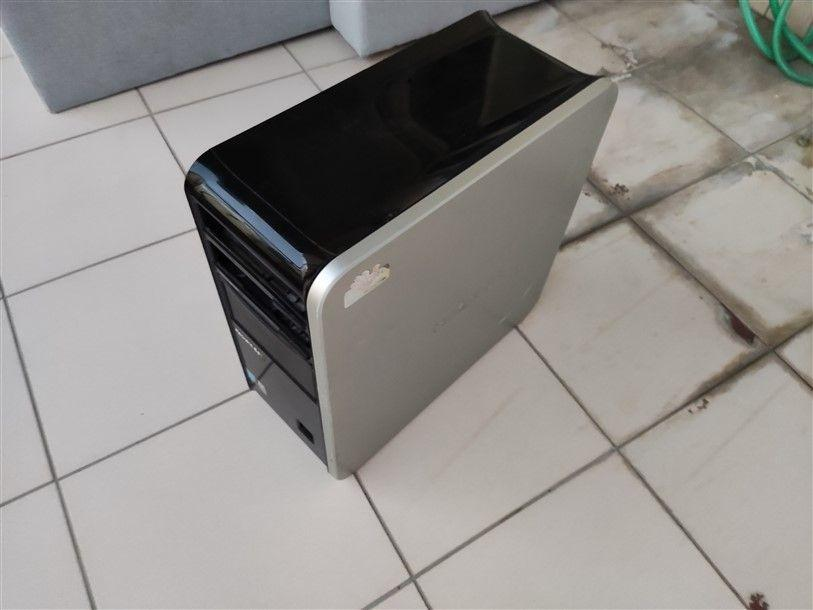DESKTOP PC: (186, 10, 602, 480)
